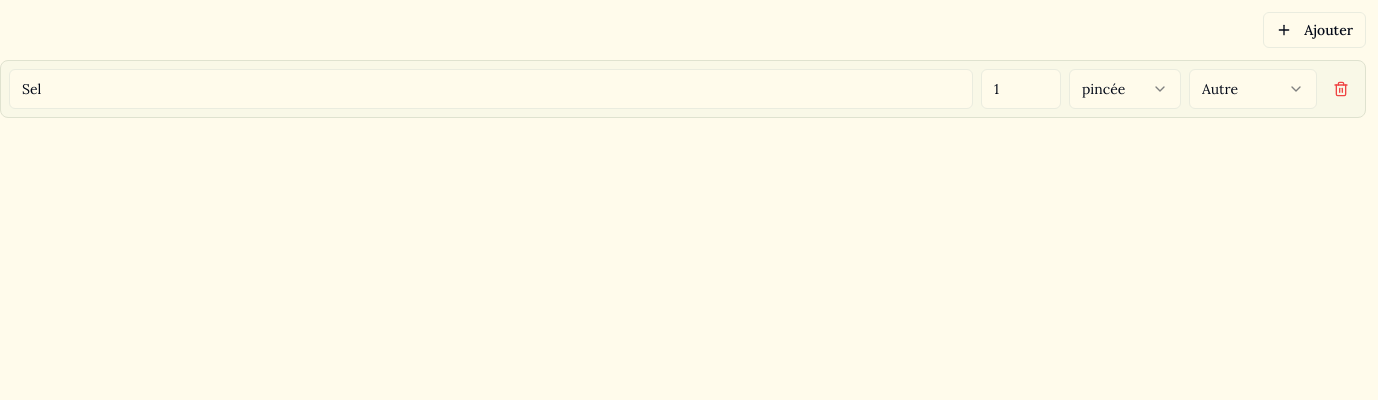
IngredientEditor — sélection de la catégorie › affiche toutes les catégories disponibles à l'ouverture
What coordinates should you click on to do the following:
click the dropdown labelled "Autre"
I would click on:
 (1253, 89)
Its box is [1189, 69, 1317, 109].
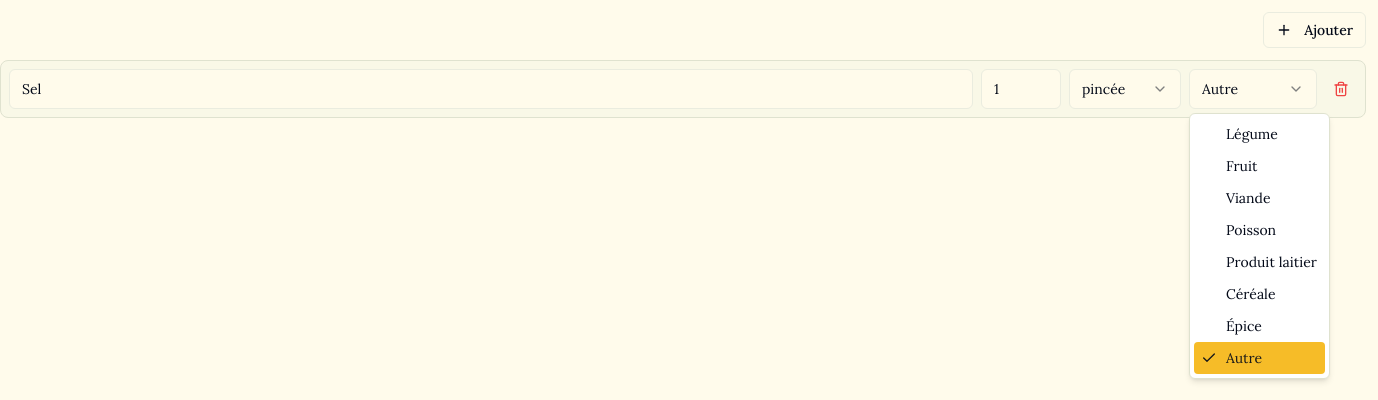
Now the option "Légume" is shown, box [1226, 125, 1278, 143]
Now the option "Viande" is shown, box [1226, 189, 1271, 207]
Now the option "Épice" is shown, box [1226, 317, 1262, 335]
